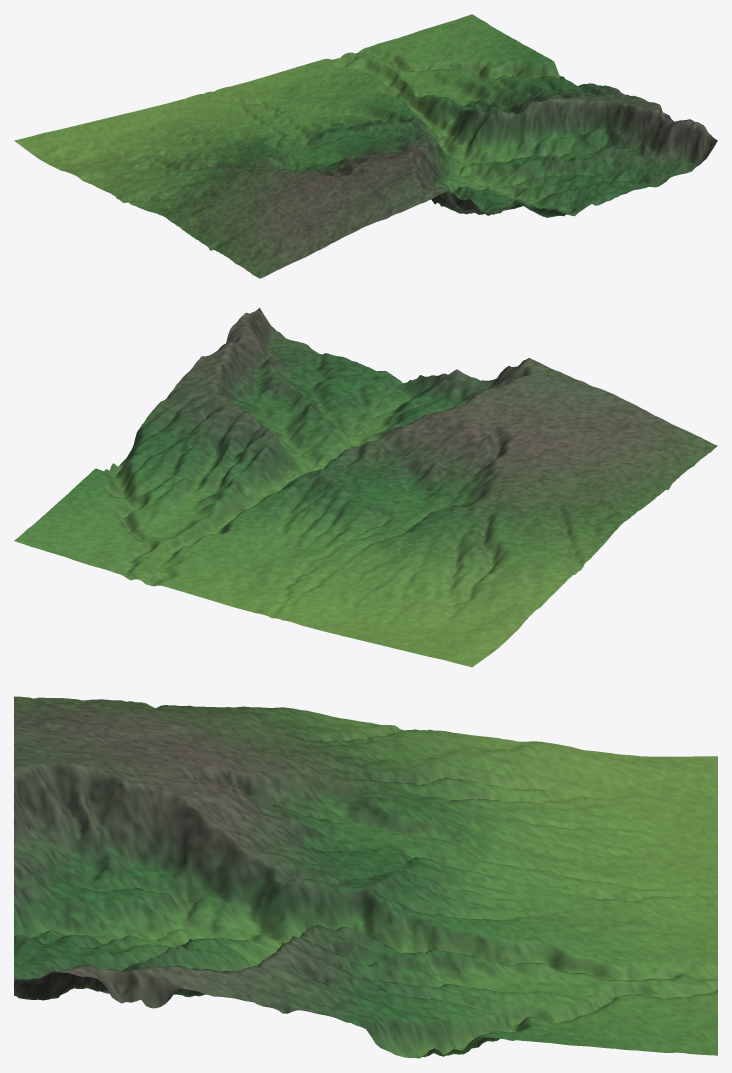
File: lareunion-terrain-5.glb
3 renders of one model, top to bottom at view 1: azimuth 30°, elevation 25°; view 2: azimuth 150°, elevation 25°; view 3: azimuth 270°, elevation 25°, orthographic. The views are drawn at different scales.
Parts seen in each view (by area): view 1: LaReunionRgeAltiTerrain_5; view 2: LaReunionRgeAltiTerrain_5; view 3: LaReunionRgeAltiTerrain_5.
Boxes of the visible parts, <box> form: LaReunionRgeAltiTerrain_5: <box>14,14,717,278</box>; LaReunionRgeAltiTerrain_5: <box>14,307,717,667</box>; LaReunionRgeAltiTerrain_5: <box>14,696,717,1058</box>.
Size of the model in its own units: 55.09 by 9.64 by 51.16.
